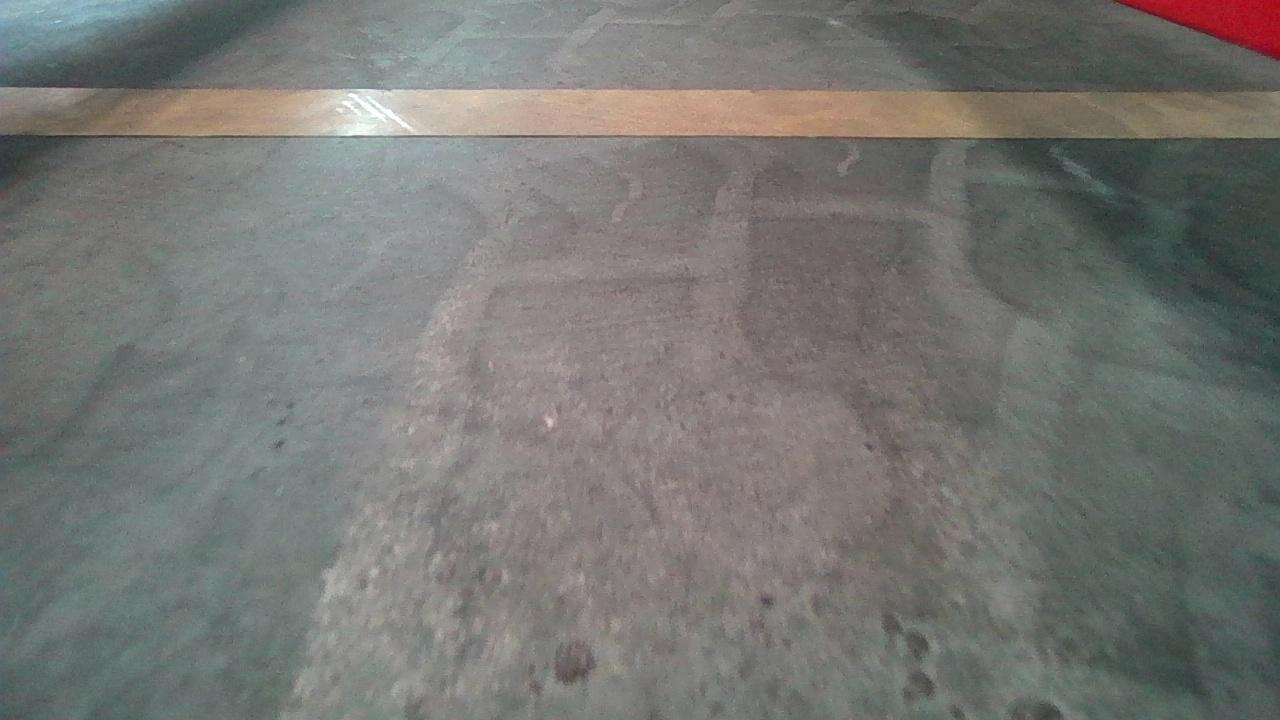yellow_line: (7, 77, 1280, 142)
